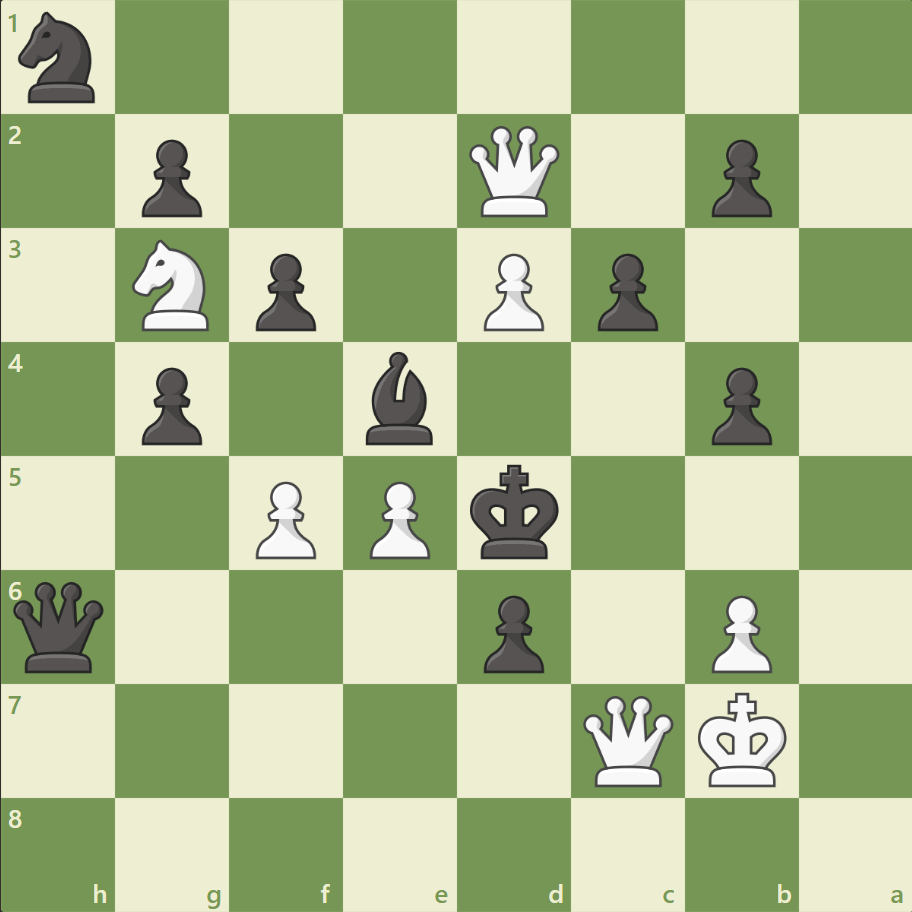K: (692, 685, 792, 793)
N: (124, 234, 222, 337)
P: (701, 586, 776, 677), (247, 473, 322, 564), (474, 246, 549, 337), (361, 473, 435, 564)
Q: (464, 122, 563, 222), (578, 690, 677, 789)
b: (358, 347, 442, 449)
k: (465, 458, 565, 566)
n: (11, 7, 108, 110)
p: (474, 586, 549, 677), (701, 359, 776, 450), (133, 359, 208, 450), (247, 246, 322, 337), (701, 132, 776, 223), (133, 132, 208, 223), (588, 246, 662, 337)
q: (10, 576, 109, 676)
